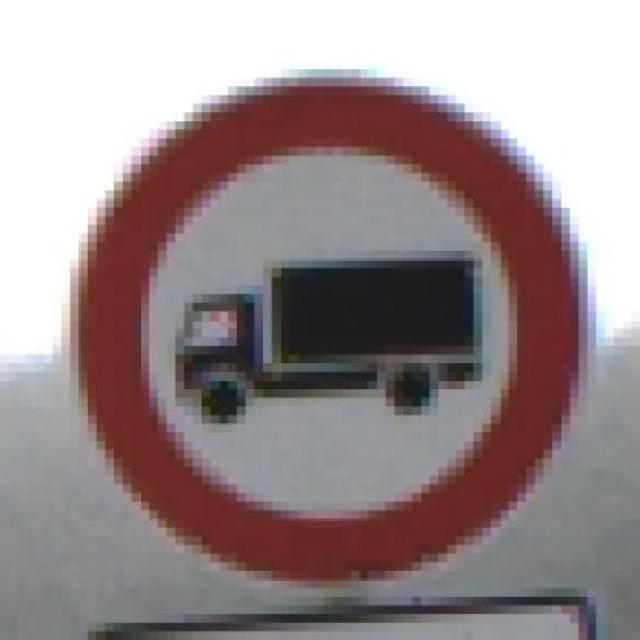Truck traffic is prohibited: (65, 50, 600, 588)
